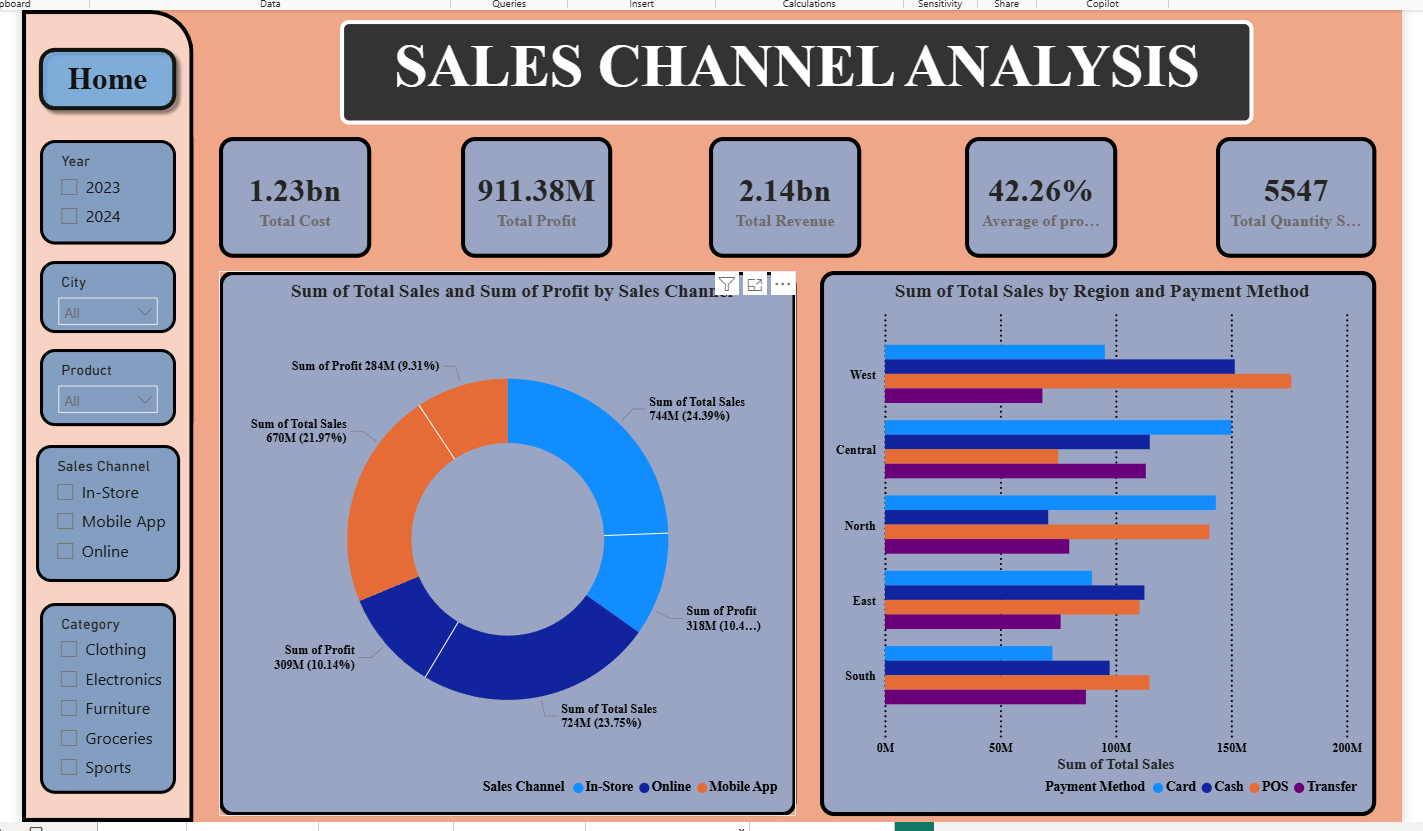

The dashboard page shown, as its layout file describes it:
{"tool":"powerbi","page":{"name":"Sales Channel Analysis","canvas":[1360,800],"ordinal":4},"visuals":[{"type":"donutChart","title":"Sum of Total Sales and Sum of Profit by Sales Channel","fields":{"Category":["📦 Raw Data.Sales_Channel"],"Y":["Sum(📦 Raw Data.Total_Sales_NGN)","Sum(📦 Raw Data.Profit_NGN)"]},"box":[194,257,569,537],"z":0},{"type":"clusteredBarChart","title":"Sum of Total Sales by Region and Payment Method","fields":{"Category":["📦 Raw Data.Region"],"Y":["Sum(📦 Raw Data.Total_Sales_NGN)"],"Series":["📦 Raw Data.Payment_Method"]},"box":[786,257,548,537],"z":1000},{"type":"card","fields":{"Values":["📦 Raw Data.Total Cost"]},"box":[194,125,150,119],"z":2000},{"type":"card","fields":{"Values":["📦 Raw Data.Total Profit"]},"box":[433,125,149,119],"z":3000},{"type":"card","fields":{"Values":["📦 Raw Data.Total Quantity Sold"]},"box":[1176,125,158,119],"z":4000},{"type":"card","fields":{"Values":["📦 Raw Data.Total Revenue"]},"box":[677,125,150,119],"z":5000},{"type":"card","fields":{"Values":["Avg(📦 Raw Data.Proit Margin)"]},"box":[929,125,150,119],"z":6000},{"type":"shape","box":[0,0,169,800],"z":7000},{"type":"pageNavigator","box":[9,30,151,77],"z":8000},{"type":"slicer","fields":{"Values":["📦 Raw Data.City"]},"box":[18,247,134,71],"z":9000},{"type":"slicer","fields":{"Values":["📦 Raw Data.Product"]},"box":[18,334,134,76],"z":10000},{"type":"slicer","fields":{"Values":["📦 Raw Data.Sales Channel"]},"box":[14,429,142,135],"z":11000},{"type":"slicer","fields":{"Values":["DIM_Date.Year"]},"box":[18,128,134,103],"z":12000},{"type":"slicer","fields":{"Values":["📦 Raw Data.Category"]},"box":[18,584,134,188],"z":13000},{"type":"textbox","box":[313,10,900,103],"z":14000}]}

Visuals, with their boxes on the page's 1360x800 design canvas (x1, y1, x2, y2). These are canvas units, not pixel positions in the 1423x831 screenshot, which may show the page scaled, cropped or inside an application window:
"Sum of Total Sales and Sum of Profit by Sales Channel" donutChart: 194 257 763 794
"Sum of Total Sales by Region and Payment Method" clusteredBarChart: 786 257 1334 794
card - 📦 Raw Data.Total Cost: 194 125 344 244
card - 📦 Raw Data.Total Profit: 433 125 582 244
card - 📦 Raw Data.Total Quantity Sold: 1176 125 1334 244
card - 📦 Raw Data.Total Revenue: 677 125 827 244
card - Avg(📦 Raw Data.Proit Margin): 929 125 1079 244
shape: 0 0 169 800
pageNavigator: 9 30 160 107
slicer - 📦 Raw Data.City: 18 247 152 318
slicer - 📦 Raw Data.Product: 18 334 152 410
slicer - 📦 Raw Data.Sales Channel: 14 429 156 564
slicer - DIM_Date.Year: 18 128 152 231
slicer - 📦 Raw Data.Category: 18 584 152 772
textbox: 313 10 1213 113
